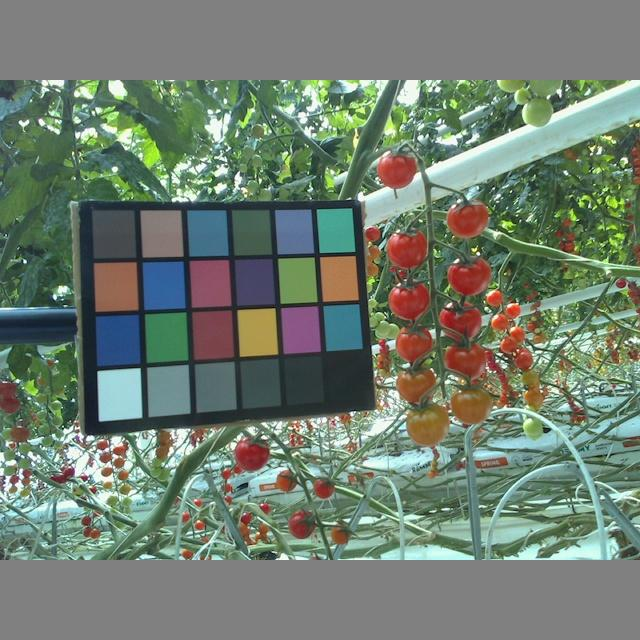green: (521, 97, 555, 126), (522, 416, 542, 437)
pink: (449, 380, 491, 427), (404, 404, 449, 446), (395, 364, 442, 403), (312, 475, 333, 499), (515, 348, 535, 371), (499, 333, 518, 351), (279, 469, 296, 489), (490, 312, 510, 329)
red: (437, 299, 481, 342), (449, 255, 491, 295), (387, 230, 429, 269), (442, 343, 487, 379), (390, 280, 429, 321), (446, 200, 490, 236), (376, 151, 416, 188), (231, 434, 271, 471), (395, 325, 433, 361), (286, 512, 316, 539), (331, 523, 352, 546)
